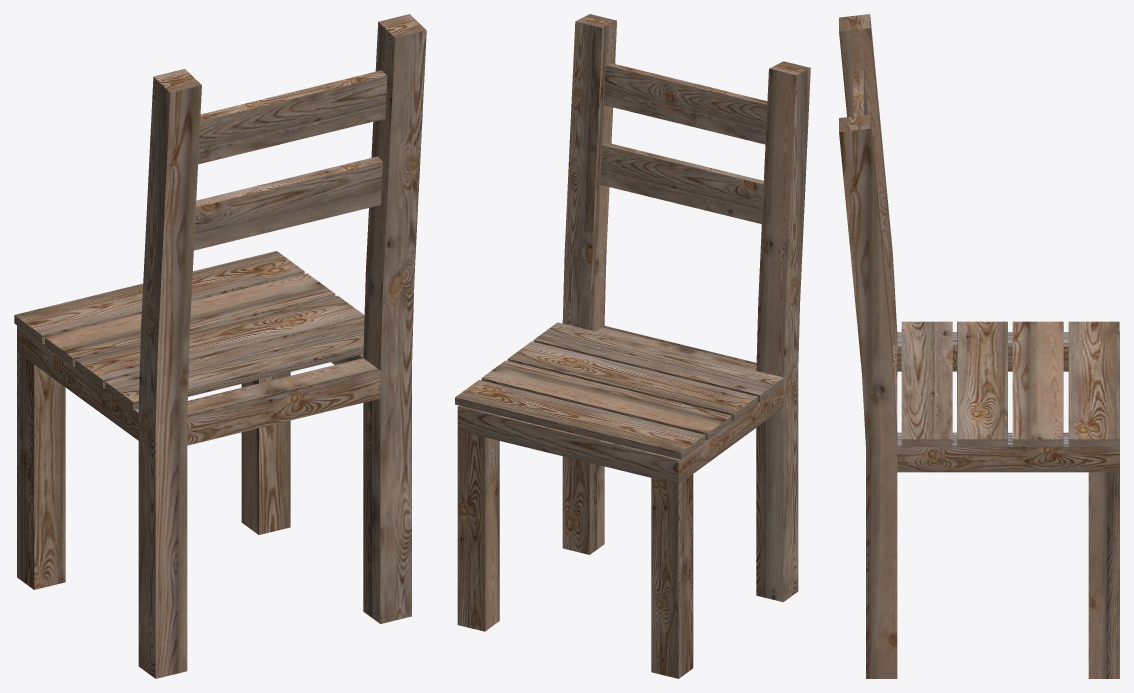
File: chair.fbx
The picture shows the model from 3 angles, left to right: view 1: azimuth 30°, elevation 25°; view 2: azimuth 150°, elevation 25°; view 3: azimuth 270°, elevation 25°; orthographic projection. The views are drawn at different scales.
Parts seen in each view (by area): view 1: Chair; view 2: Chair; view 3: Chair.
Part boxes in pixels (left/top/right/bottom): Chair: left=14, top=14, right=426, bottom=678; Chair: left=455, top=14, right=810, bottom=678; Chair: left=839, top=14, right=1119, bottom=678.
Size of the model in its own units: 0.33 by 0.7214 by 0.3338.
